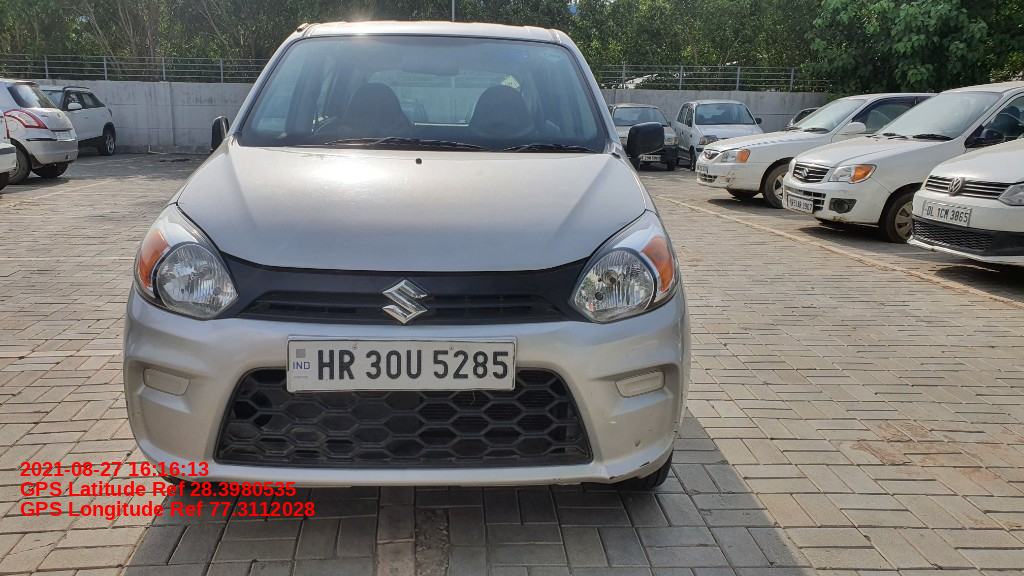Scratched: (671, 410, 684, 440), (603, 471, 623, 485), (638, 458, 657, 471), (630, 436, 645, 452)
